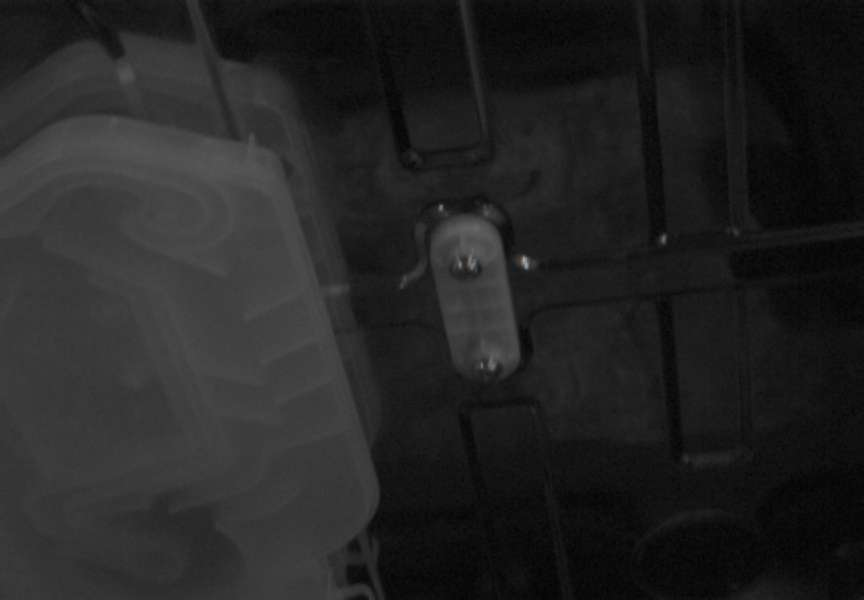screw: (450, 253, 482, 280), (473, 356, 503, 383)
